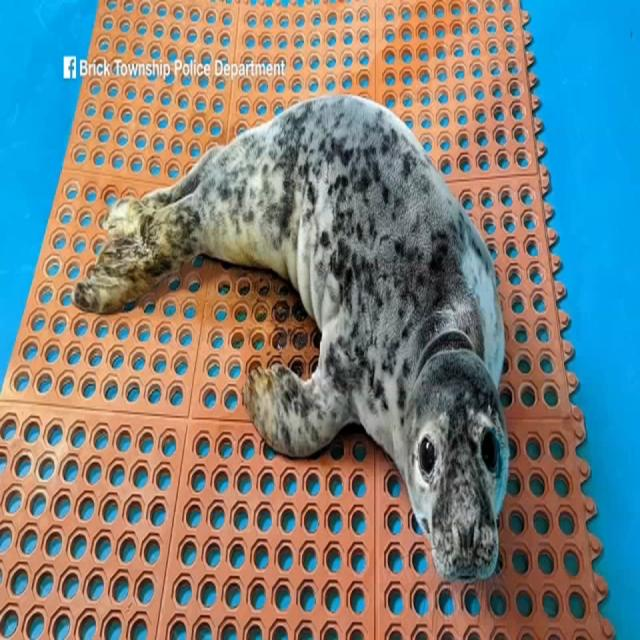WaterDog: (75, 92, 513, 592)
